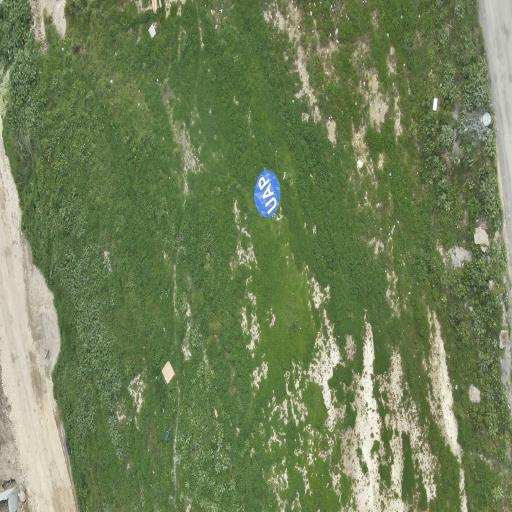uap: (254, 170, 280, 217)
